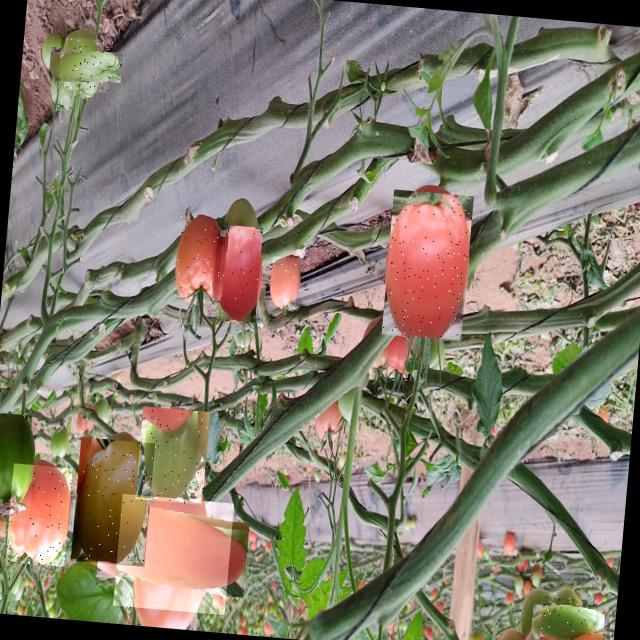Ripe Tomato: (112, 493, 233, 614), (381, 189, 473, 341), (5, 462, 72, 566), (210, 224, 262, 323), (174, 213, 222, 300), (268, 256, 299, 308)
Unripe Tomato: (70, 436, 155, 566), (134, 406, 210, 504), (0, 411, 37, 523), (58, 36, 112, 92), (538, 595, 597, 640)
